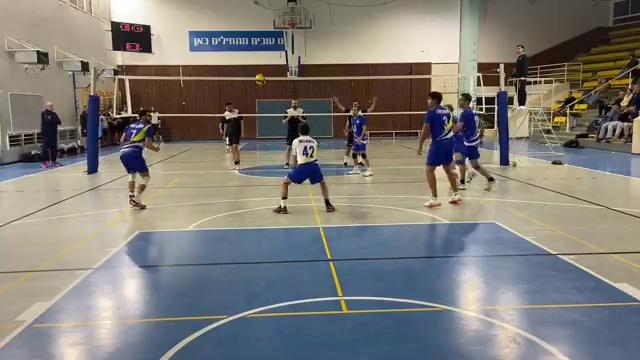ball: (251, 74, 270, 89)
